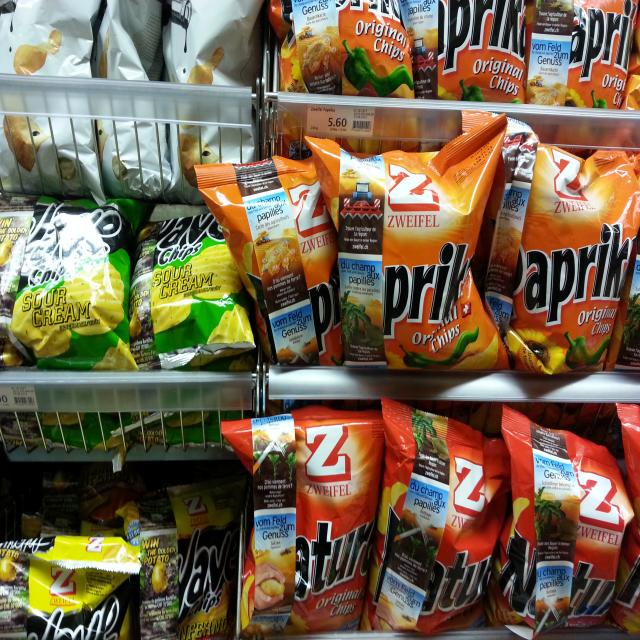Chips: (310, 128, 506, 384), (466, 109, 640, 392), (228, 400, 372, 637), (197, 143, 343, 364), (493, 418, 627, 630), (377, 399, 498, 630), (4, 203, 147, 371), (125, 191, 256, 371)
